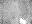person: (20, 18, 25, 23)
